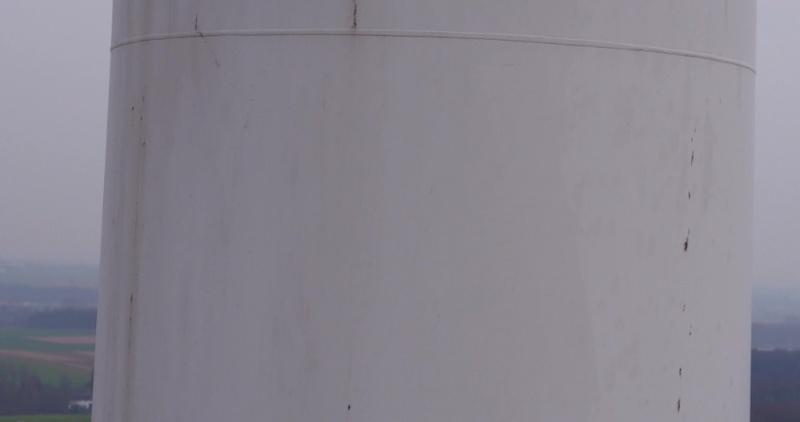weldseam: (106, 25, 760, 80)
